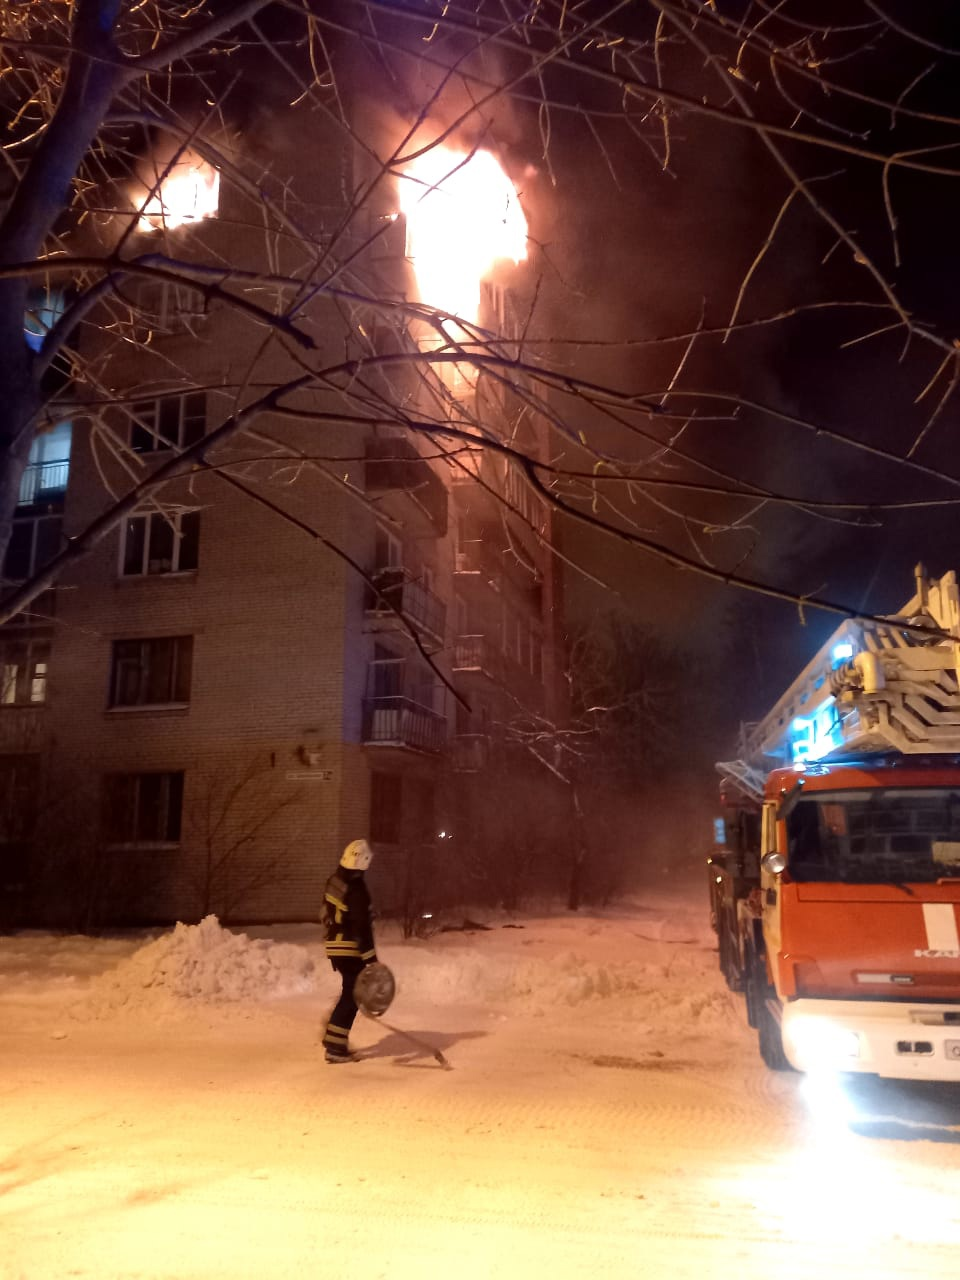fire: (350, 50, 539, 357), (98, 99, 229, 235)
